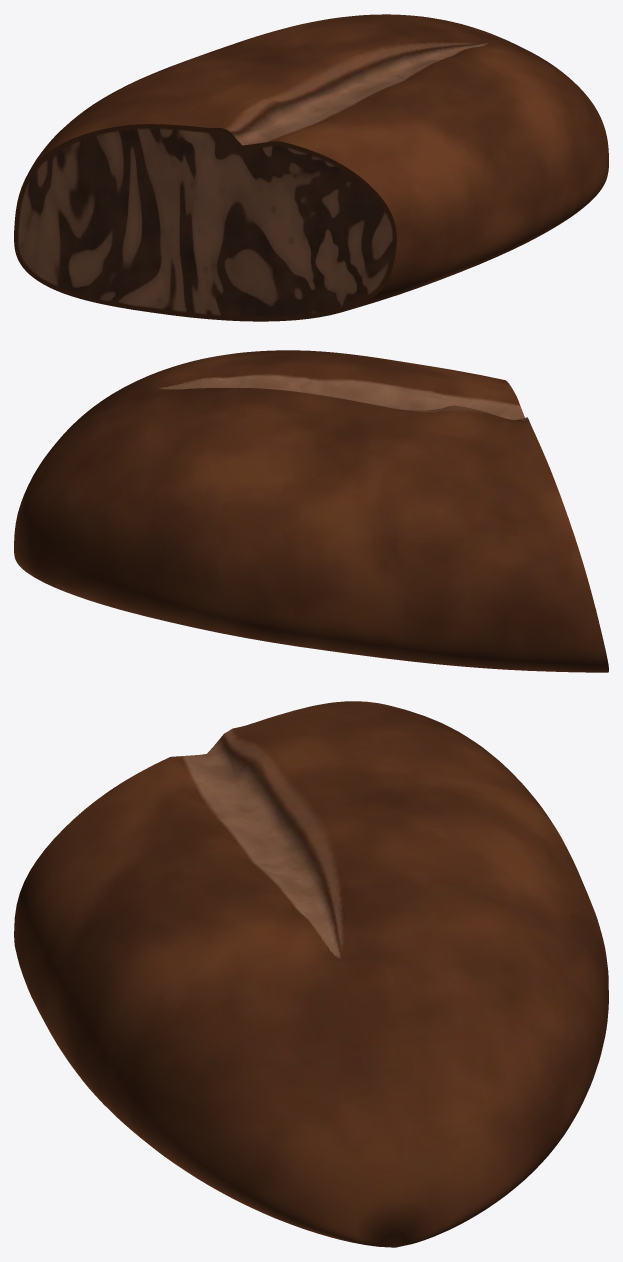
The model's file is rye--choco-cocoa.glb.
3 views of the same model, one above another, from view 1: azimuth 30°, elevation 25°; view 2: azimuth 150°, elevation 25°; view 3: azimuth 270°, elevation 25° (orthographic). The views are drawn at different scales.
Visible parts, largest first — view 1: rye_choco-cocoa; view 2: rye_choco-cocoa; view 3: rye_choco-cocoa.
Part boxes in pixels (left/top/right/bottom): rye_choco-cocoa: left=14, top=14, right=608, bottom=321; rye_choco-cocoa: left=14, top=350, right=608, bottom=672; rye_choco-cocoa: left=14, top=701, right=608, bottom=1247.
Bounding box in the file's own units: 0.9229 × 0.294 × 0.6245.
1 material, 1 textured.
